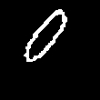chain: (24, 9, 66, 61)
